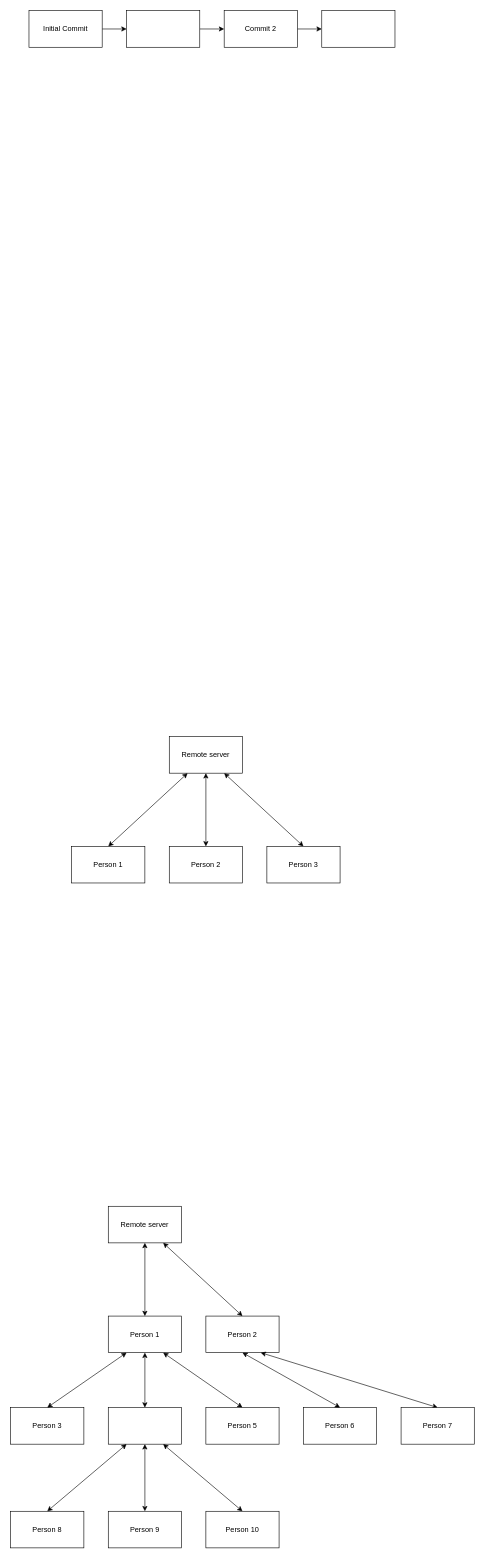
This 485x1559 diagram has some shape labels left out. The shapes that lost their labels are listed below. From the top down, each one's box as (x1, y1, x2, y2) in pixels, then its label:
(126, 10, 200, 47): Commit 1
(321, 10, 395, 47): Commit 3
(108, 1407, 181, 1444): Person 4
